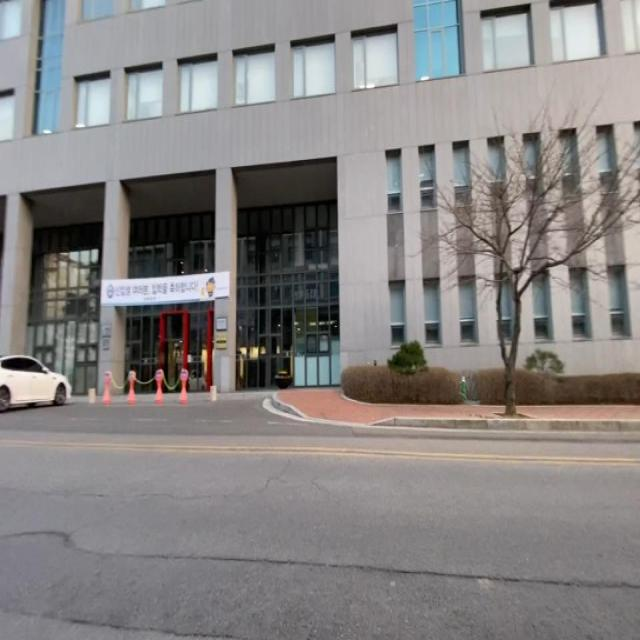sidewalk: (274, 389, 501, 426), (516, 405, 640, 423)
